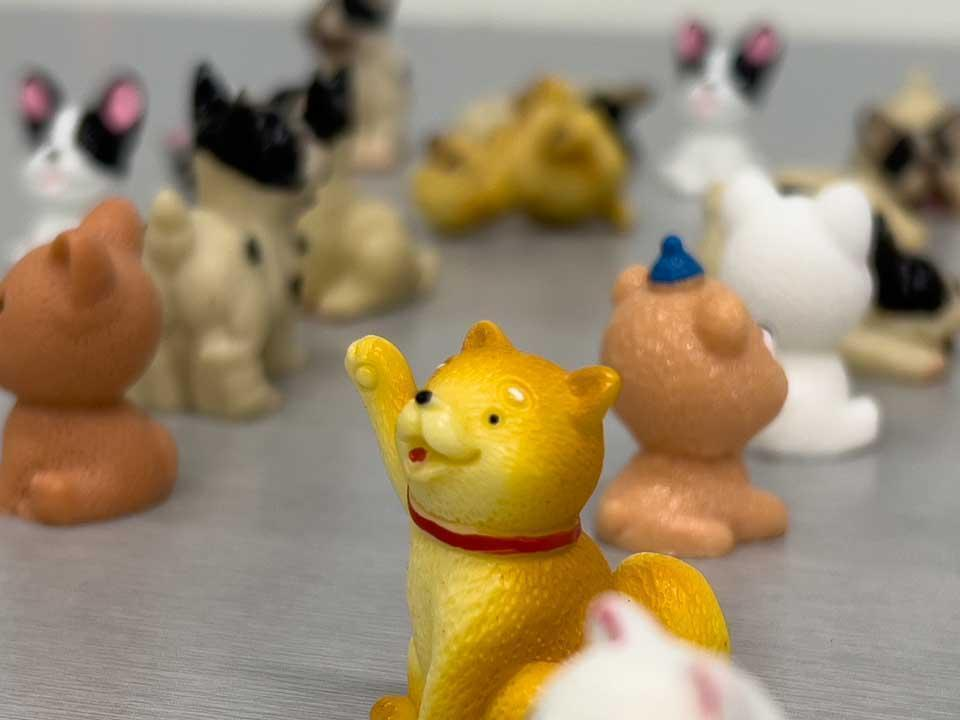pet: (344, 318, 730, 720), (64, 59, 335, 429), (591, 235, 788, 554), (0, 195, 182, 527)
